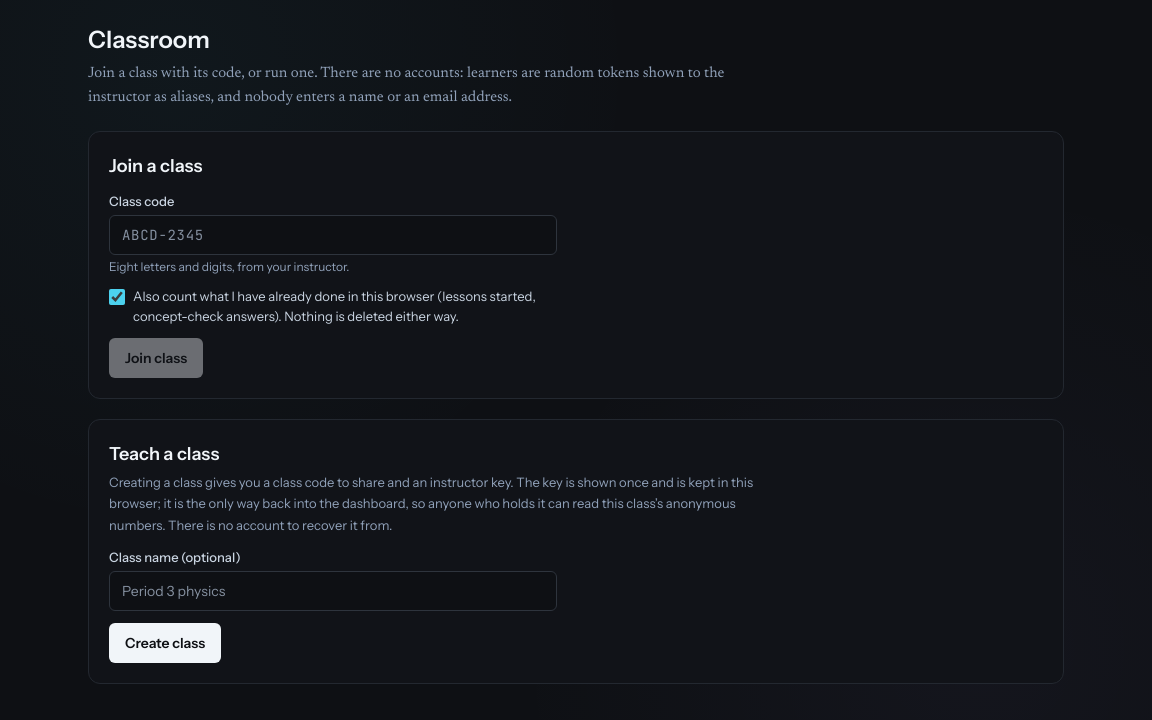
Test: the Classroom screen: joining › a wrong code shows the server’s refusal in an alert and joins nothing
Type "ZZZZ-9999" into the field labelled "Class code" at (333, 235), box [109, 215, 557, 255]
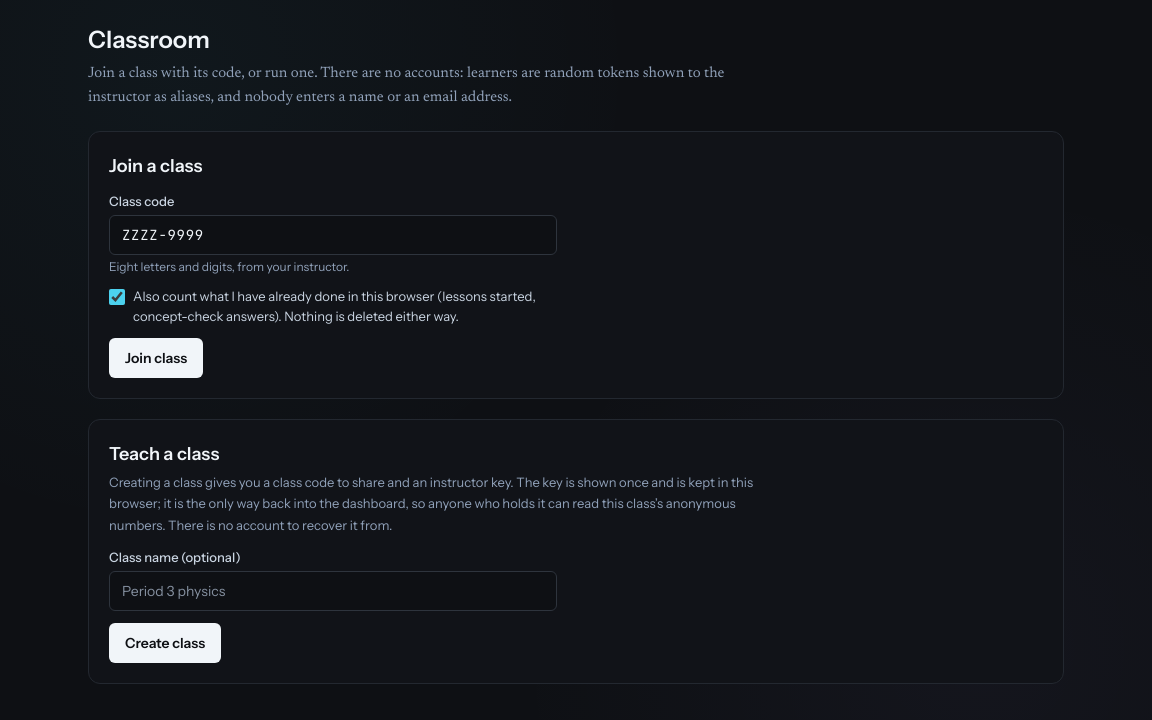
Click the button "Join class" at (156, 358), box [109, 338, 203, 378]
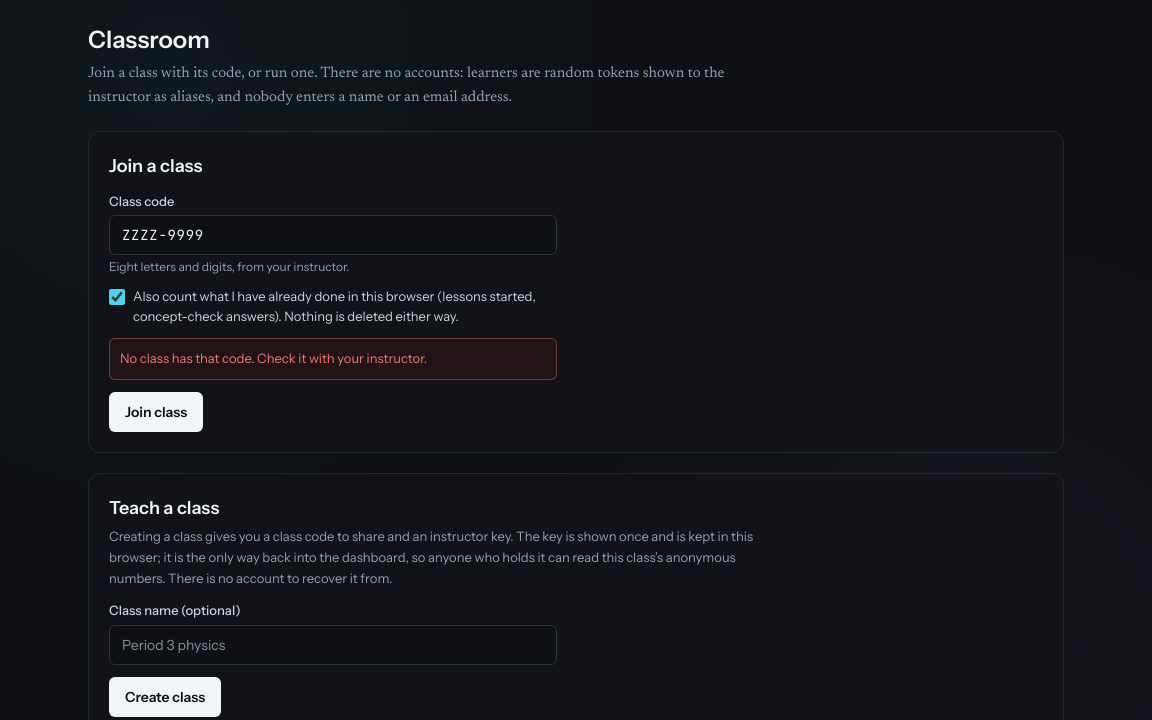
expect the message with test id "join-error" shows "No class has that code": met, box [120, 350, 427, 366]
